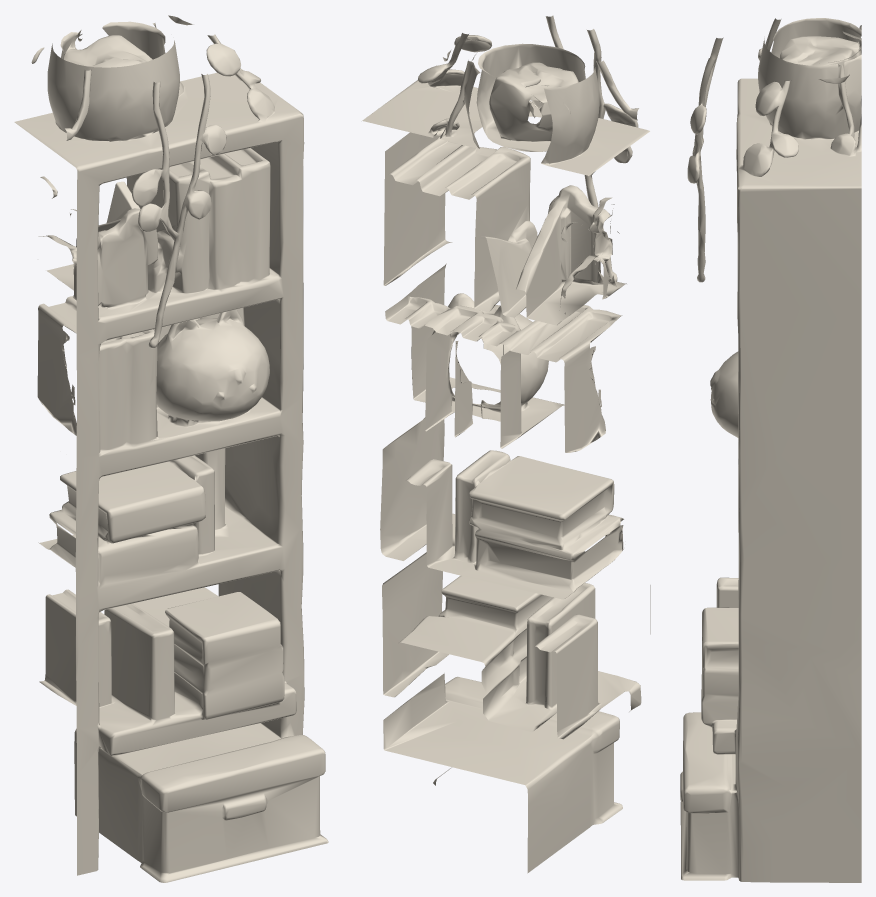
File: study_tower.glb
3 renders of one model, left to right at view 1: azimuth 30°, elevation 25°; view 2: azimuth 150°, elevation 25°; view 3: azimuth 270°, elevation 25°, orthographic. The views are drawn at different scales.
Size of the model in its own units: 0.2807 by 0.915 by 0.1955.
